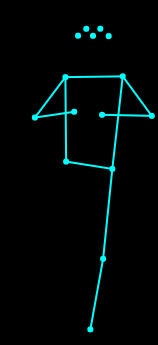tree: (29, 16, 156, 335)
